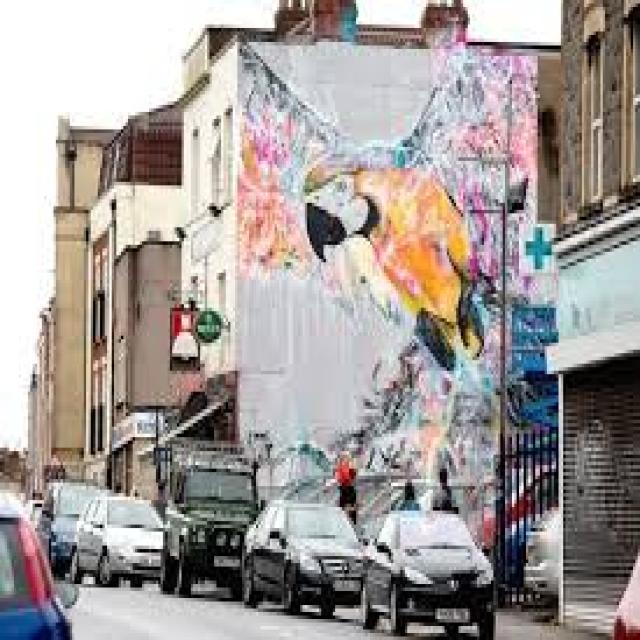-: (238, 42, 560, 508)
